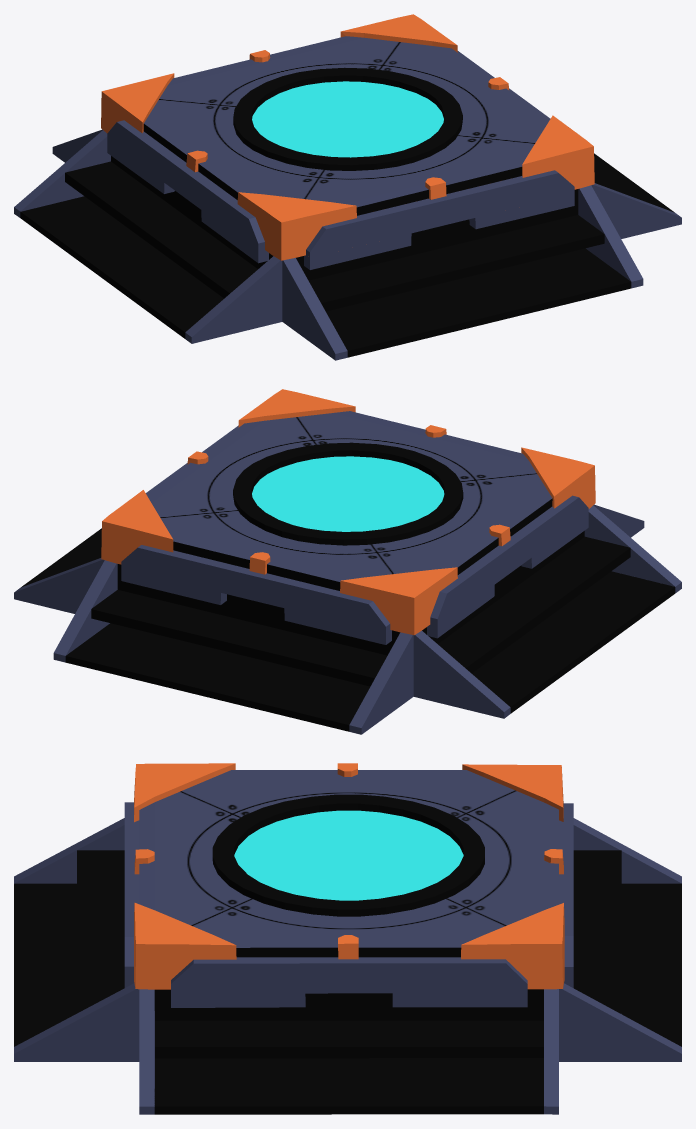
File: UpgradeArmor.fbx
3 renders of one model, top to bottom at view 1: azimuth 30°, elevation 25°; view 2: azimuth 150°, elevation 25°; view 3: azimuth 270°, elevation 25°, orthographic. The views are drawn at different scales.
Visible parts, largest first — view 1: Upgrade Armor; view 2: Upgrade Armor; view 3: Upgrade Armor.
Boxes of the visible parts, bbox=[...] form: Upgrade Armor: bbox=[14, 14, 681, 360]; Upgrade Armor: bbox=[14, 389, 681, 734]; Upgrade Armor: bbox=[14, 763, 681, 1114].
Bounding box in the file's own units: 159 × 31.9 × 159.
